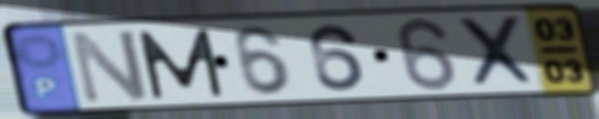6: (394, 15, 460, 93), (230, 24, 295, 98), (305, 22, 369, 94)
M: (133, 26, 228, 102)
N: (66, 27, 153, 107)
X: (451, 13, 544, 90)
